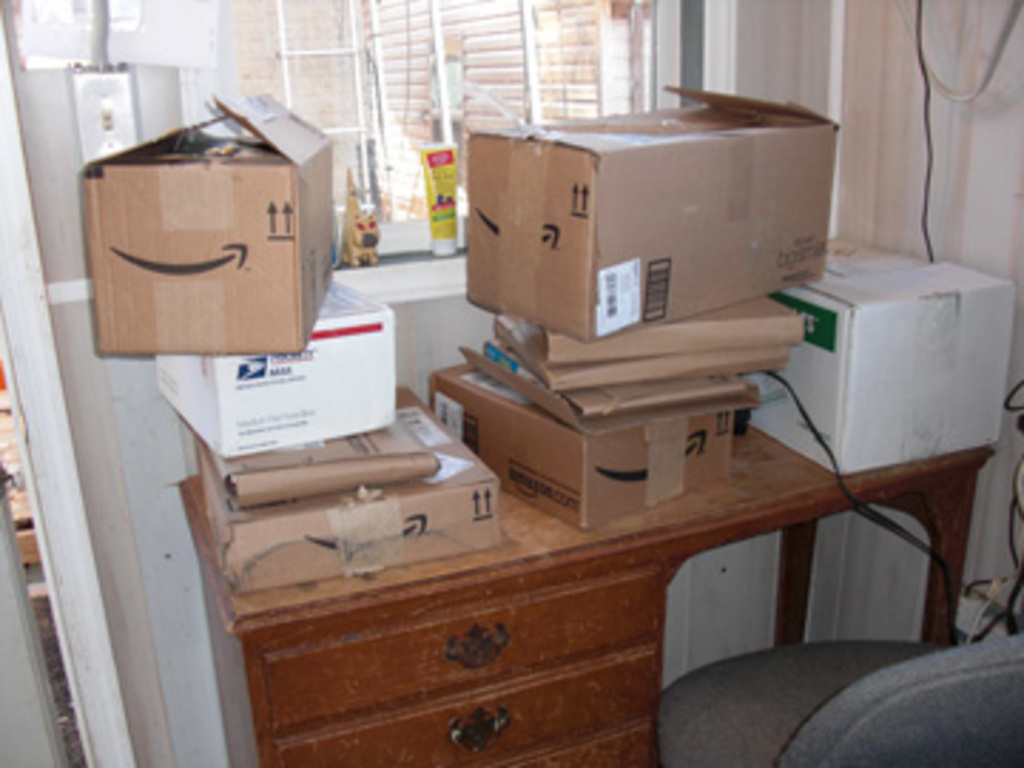cabinet door: (291, 626, 651, 662), (318, 717, 634, 751)
handle: (450, 626, 516, 670), (455, 708, 511, 746)
